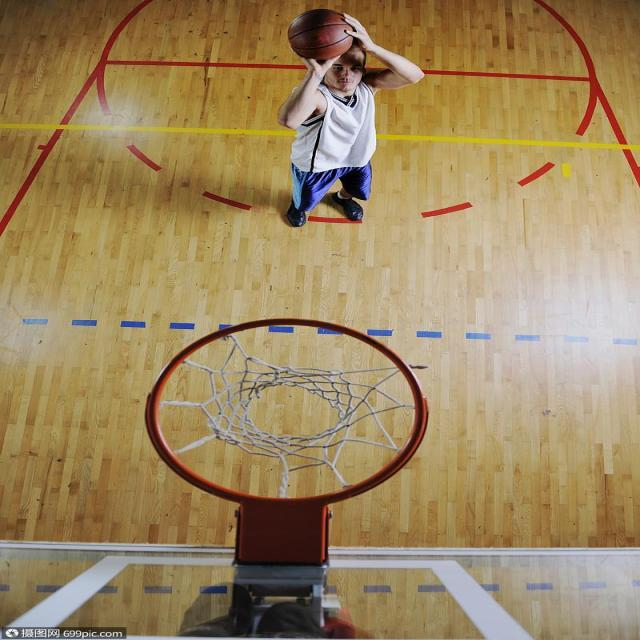rim: (290, 10, 356, 61)
